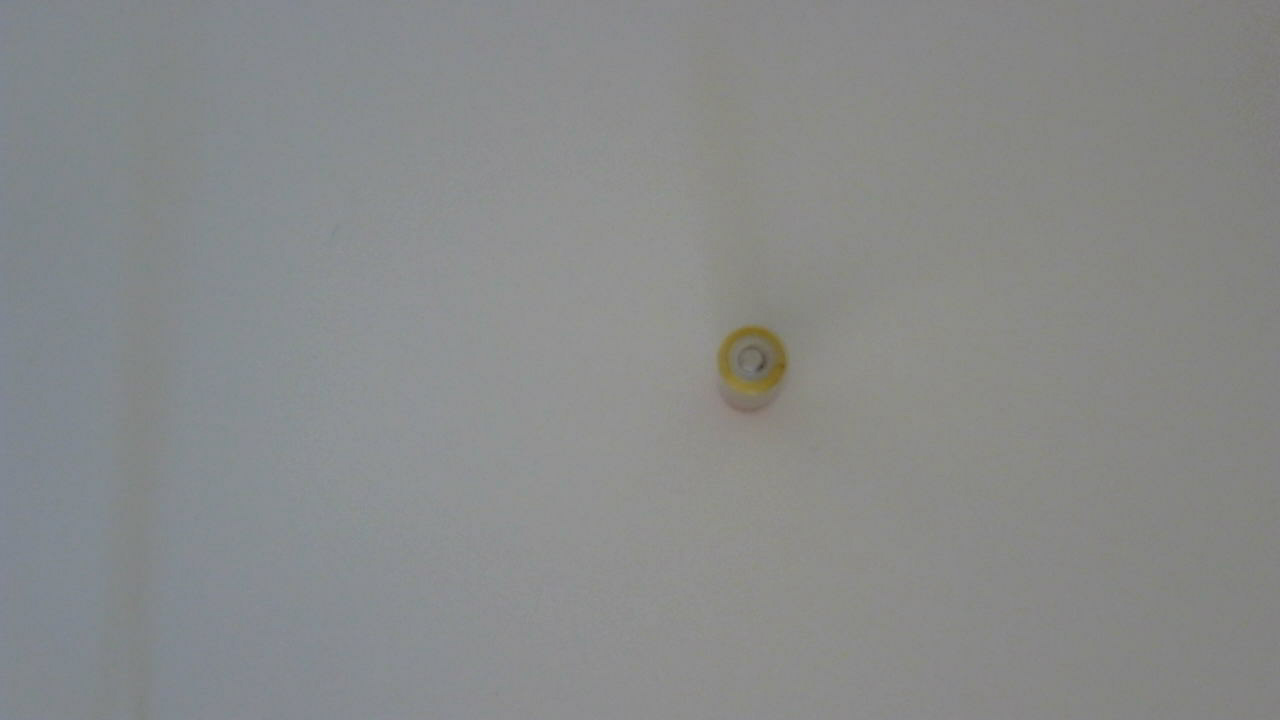Battery: (709, 323, 803, 425)
